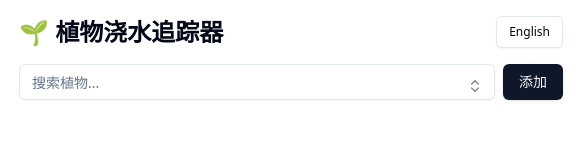
it: PlantTracker › Autocomplete functionality › closes dropdown when pressing escape
Type "monstera" into the field with placeholder "搜索植物..." at (257, 82), box [19,64,495,100]
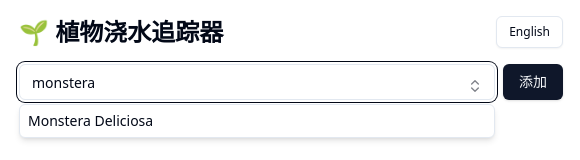
Press Escape
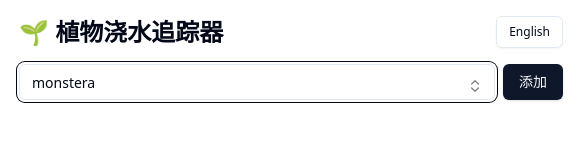
Now the list is gone
